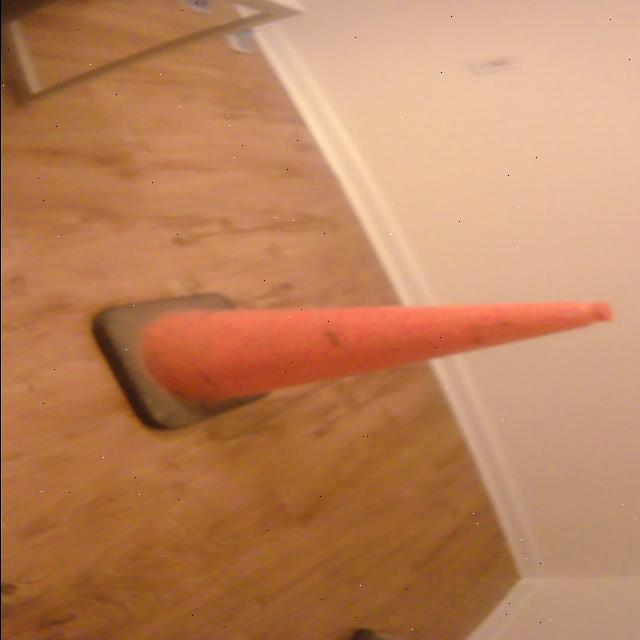traffic cone: (90, 288, 620, 435)
